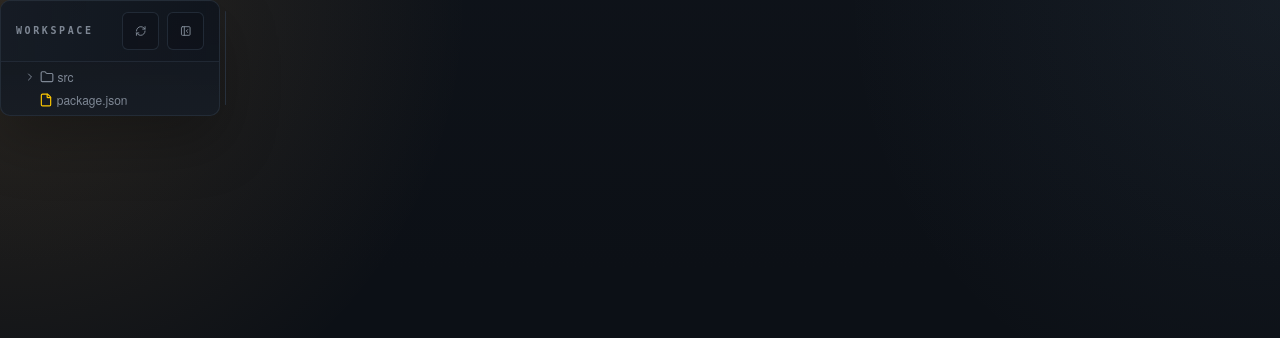
Scenario: FileTreePanel › context menu add to chat › renders menu actions from the shared action builder for files
Right-click the text "package.json" at [92, 99], box [57, 90, 128, 108]
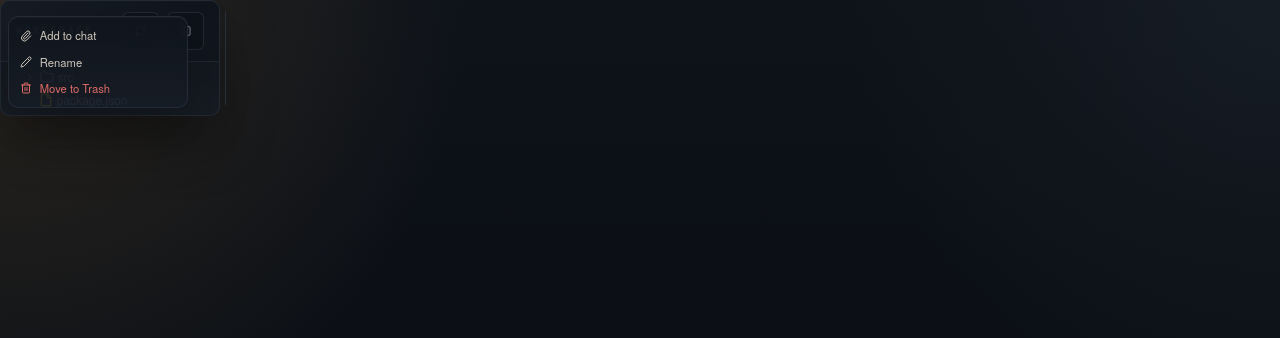
Expected: the button "Add to chat" is shown, [9, 23, 187, 49]
Expected: the button "Rename" is shown, [9, 49, 187, 75]
Expected: the button "Move to Trash" is shown, [9, 75, 187, 101]
